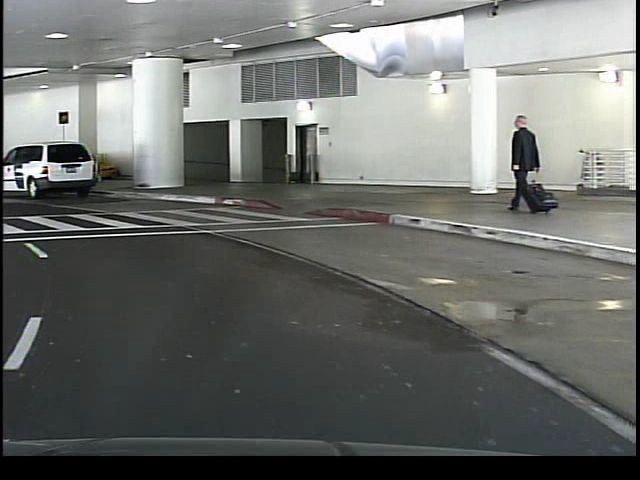person: (498, 109, 535, 217)
